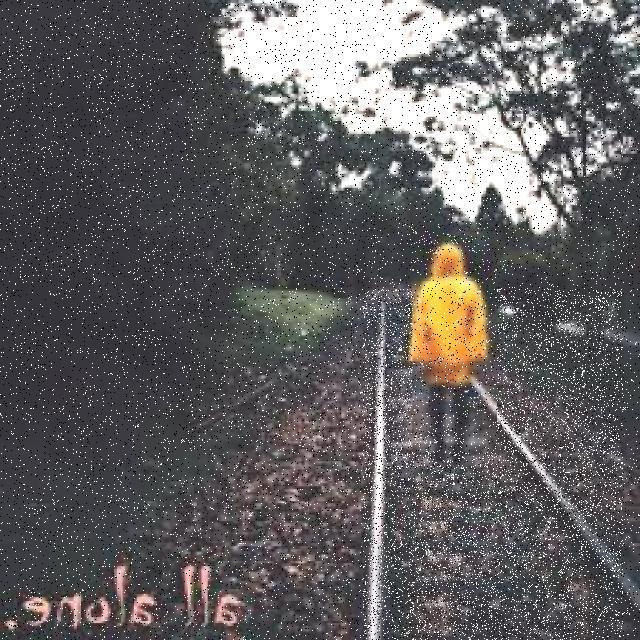danger: (412, 233, 497, 452)
rail: (363, 289, 623, 640)
